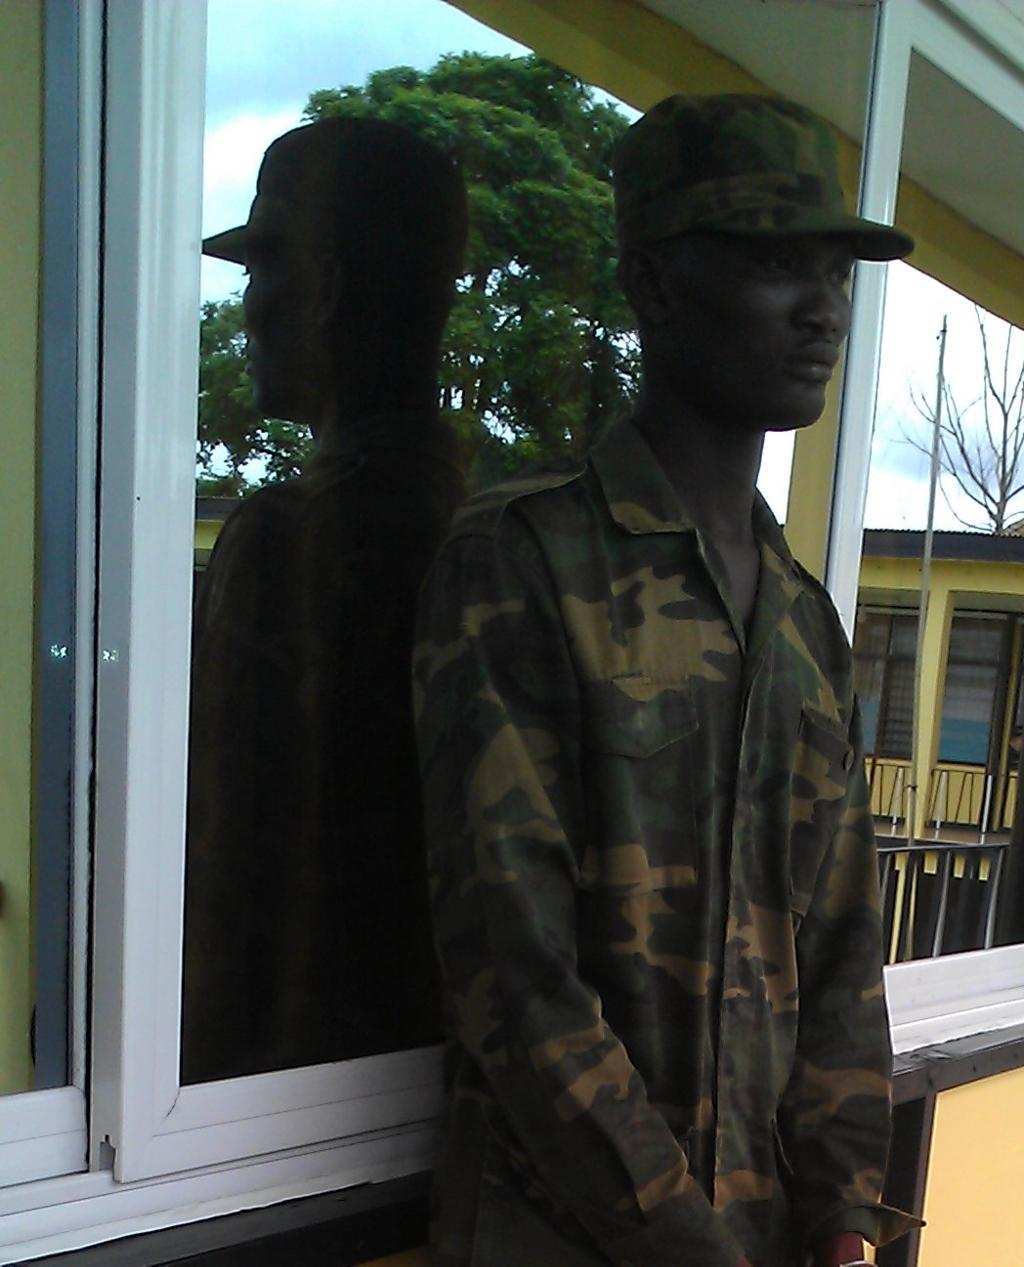face: (693, 171, 859, 423)
